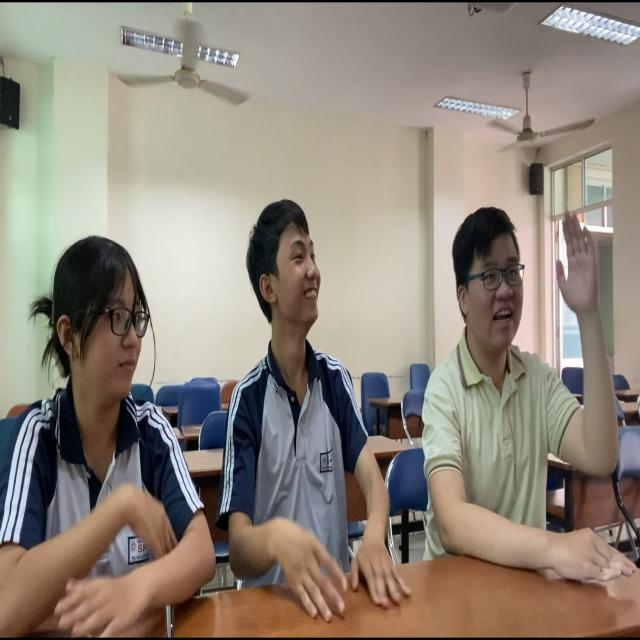raise_hand: (426, 208, 622, 590)
